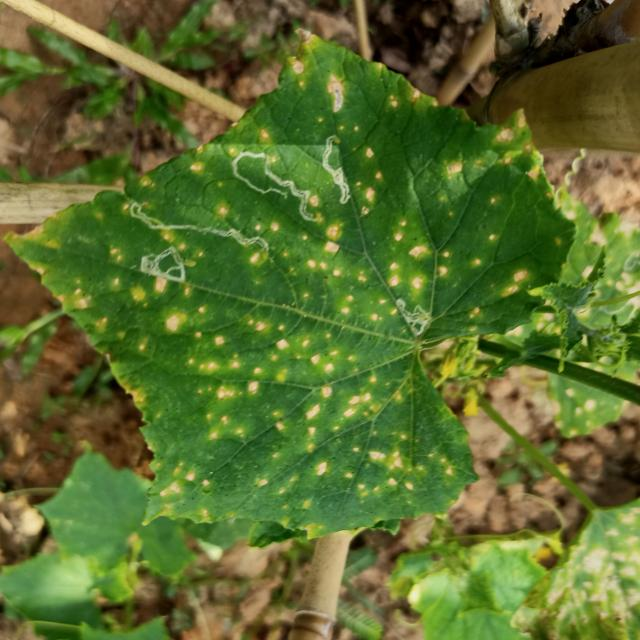disease_cucumber: (53, 275, 462, 518), (442, 107, 546, 186), (385, 217, 497, 290), (286, 54, 361, 131), (312, 223, 370, 285), (358, 142, 382, 218), (387, 82, 424, 110), (162, 232, 203, 256), (504, 267, 529, 298), (252, 218, 280, 236)
